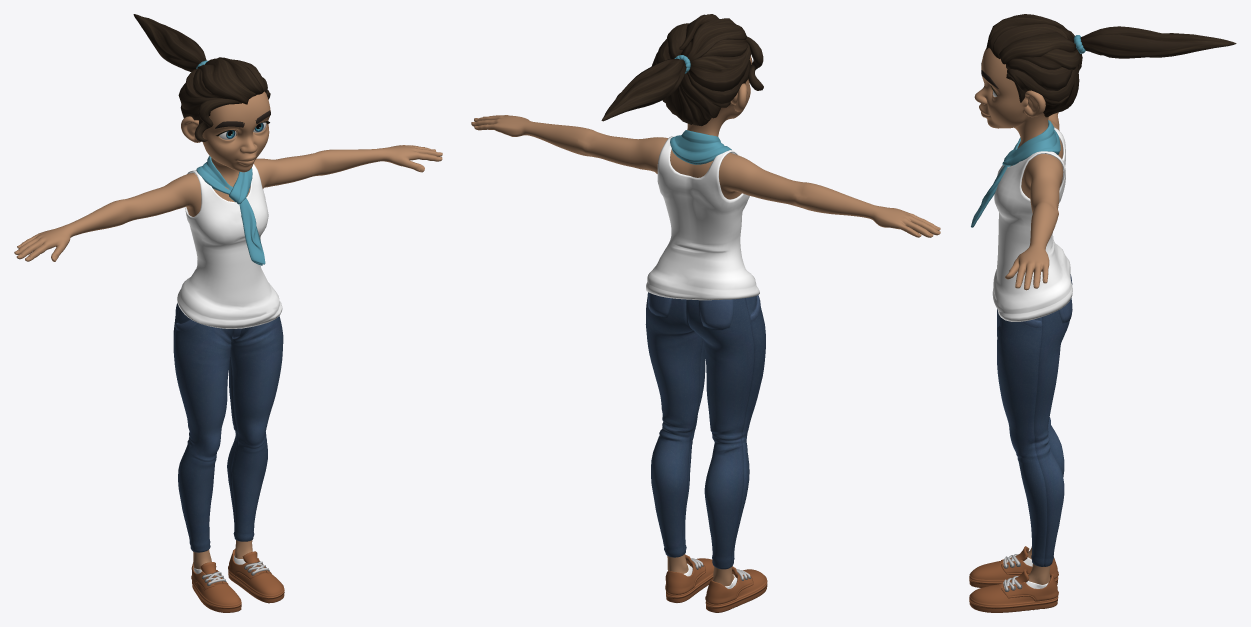
Rendered from T03-Rain-BlenderStudio-R83.glb.
3 views of the same model, side by side, from view 1: azimuth 30°, elevation 25°; view 2: azimuth 150°, elevation 25°; view 3: azimuth 270°, elevation 25° (orthographic). The views are drawn at different scales.
Visible parts, largest first — view 1: R83_GEO-rain-jeans, R83_GEO-rain-top, R83_GEO-rain-body, R83_GEO-rain-head, R83_GEO-rain-shoes, R83_GEO-rain-hair_main, R83_GEO-rain-scarf, R83_GEO-rain-hair_ponytail, R83_GEO-rain-hair_strand; view 2: R83_GEO-rain-jeans, R83_GEO-rain-body, R83_GEO-rain-top, R83_GEO-rain-hair_main, R83_GEO-rain-shoes, R83_GEO-rain-hair_ponytail, R83_GEO-rain-scarf, R83_GEO-rain-head; view 3: R83_GEO-rain-jeans, R83_GEO-rain-top, R83_GEO-rain-hair_main, R83_GEO-rain-body, R83_GEO-rain-shoes, R83_GEO-rain-head, R83_GEO-rain-hair_ponytail, R83_GEO-rain-scarf.
Boxes of the visible parts, bbox=[...] form: R83_GEO-rain-jeans: bbox=[173, 303, 283, 552]; R83_GEO-rain-top: bbox=[177, 164, 282, 328]; R83_GEO-rain-body: bbox=[14, 145, 442, 569]; R83_GEO-rain-head: bbox=[181, 91, 270, 183]; R83_GEO-rain-shoes: bbox=[191, 549, 284, 612]; R83_GEO-rain-hair_main: bbox=[178, 57, 270, 124]; R83_GEO-rain-scarf: bbox=[196, 156, 265, 265]; R83_GEO-rain-hair_ponytail: bbox=[133, 14, 206, 71]; R83_GEO-rain-hair_strand: bbox=[194, 98, 241, 141]; R83_GEO-rain-jeans: bbox=[645, 292, 765, 569]; R83_GEO-rain-body: bbox=[471, 115, 940, 586]; R83_GEO-rain-top: bbox=[646, 136, 759, 300]; R83_GEO-rain-hair_main: bbox=[652, 14, 751, 126]; R83_GEO-rain-shoes: bbox=[665, 554, 767, 612]; R83_GEO-rain-hair_ponytail: bbox=[601, 59, 686, 121]; R83_GEO-rain-scarf: bbox=[670, 130, 731, 164]; R83_GEO-rain-head: bbox=[687, 55, 751, 136]; R83_GEO-rain-jeans: bbox=[997, 274, 1072, 566]; R83_GEO-rain-top: bbox=[992, 127, 1072, 321]; R83_GEO-rain-hair_main: bbox=[986, 14, 1082, 117]; R83_GEO-rain-body: bbox=[1005, 112, 1063, 584]; R83_GEO-rain-shoes: bbox=[969, 546, 1058, 612]; R83_GEO-rain-head: bbox=[974, 48, 1048, 146]; R83_GEO-rain-hair_ponytail: bbox=[1080, 26, 1236, 58]; R83_GEO-rain-scarf: bbox=[971, 120, 1060, 227].
Size of the model in its own units: 1.4 by 1.65 by 0.6957.
18 materials, 3 textured.
